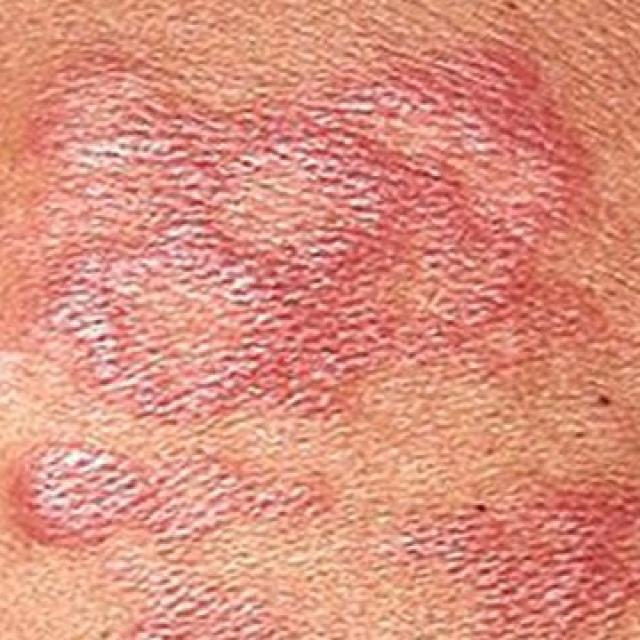Leprosy: (19, 32, 626, 420), (5, 434, 354, 553), (388, 472, 638, 638), (87, 560, 336, 638)
